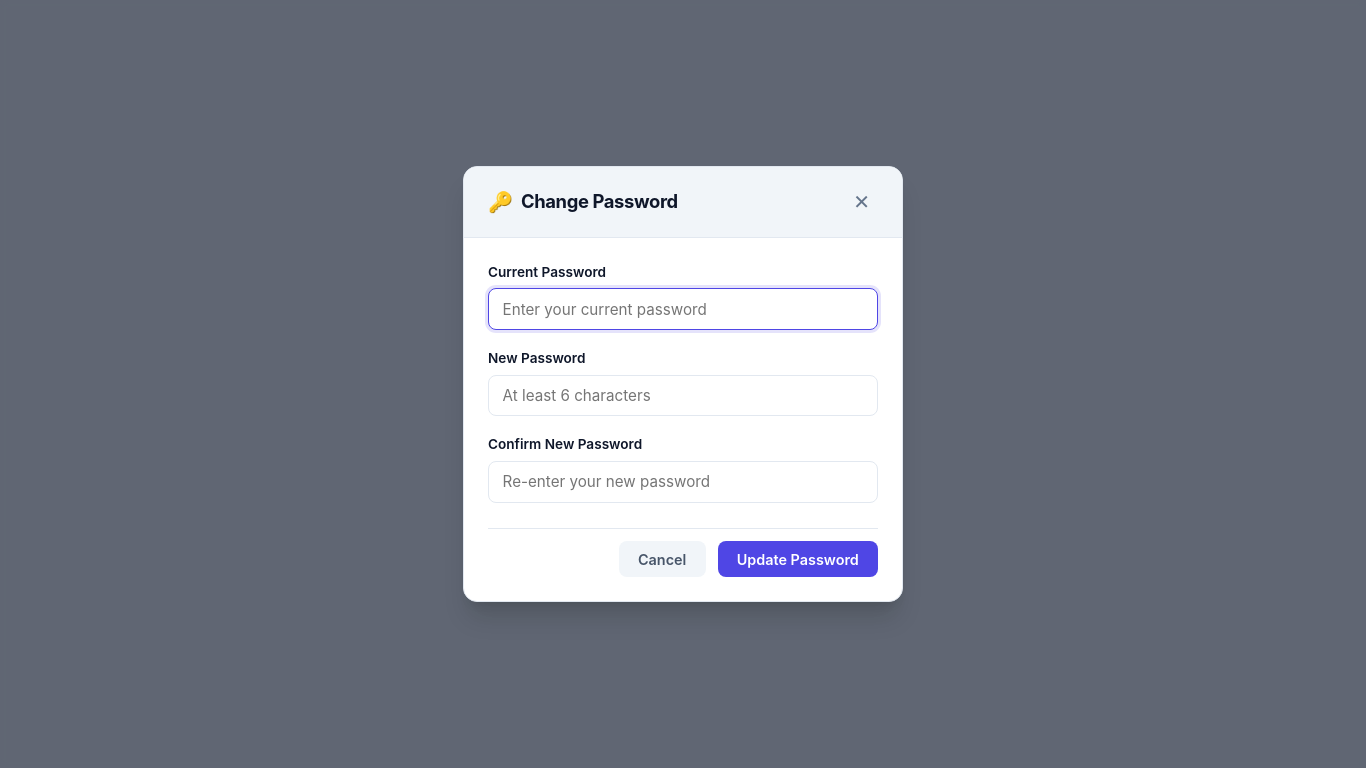
Test case: ChangePasswordModal Component › shows error when new password is the same as current password
Step 1. Type "samepassword123" into the password field labelled "Current Password" → (683, 309), box x1=488 y1=288 x2=878 y2=330
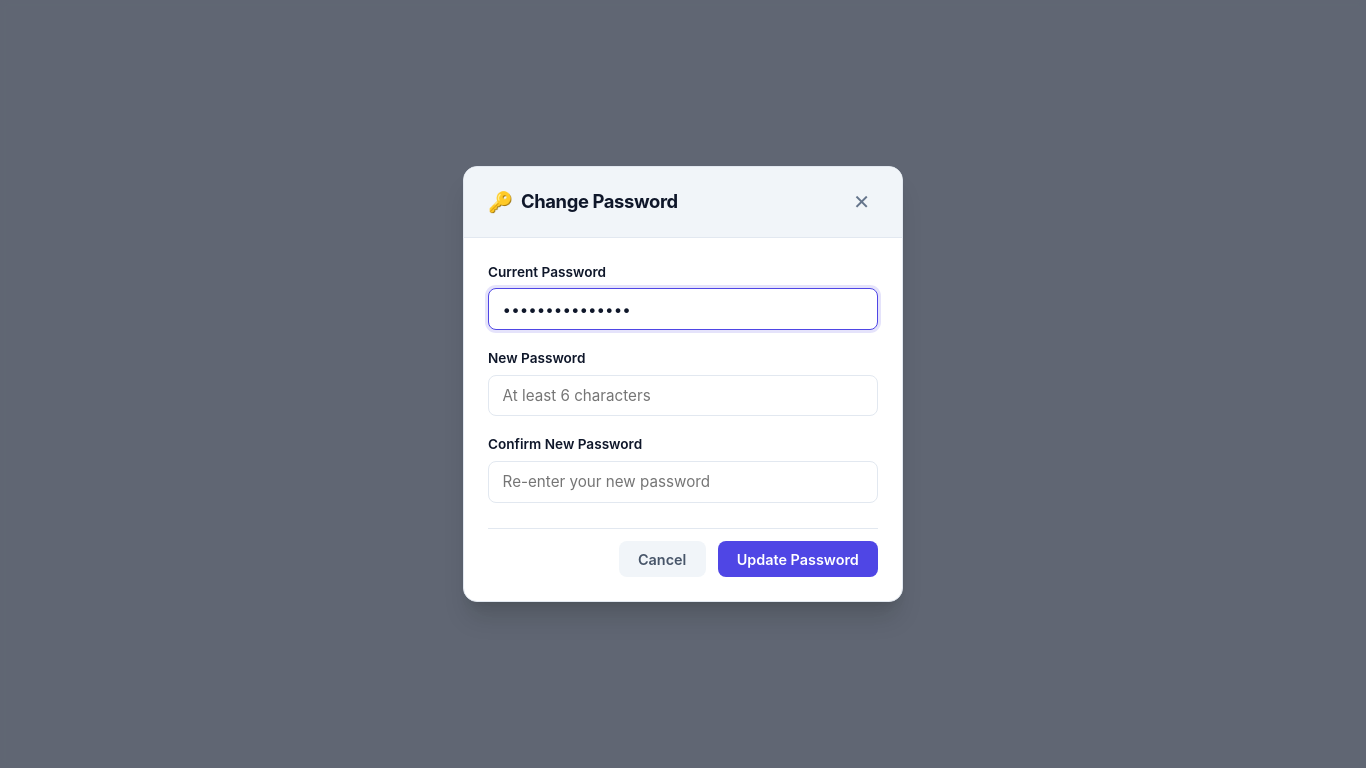
Step 2. Type "samepassword123" into the password field labelled "New Password" → (683, 396), box x1=488 y1=375 x2=878 y2=416
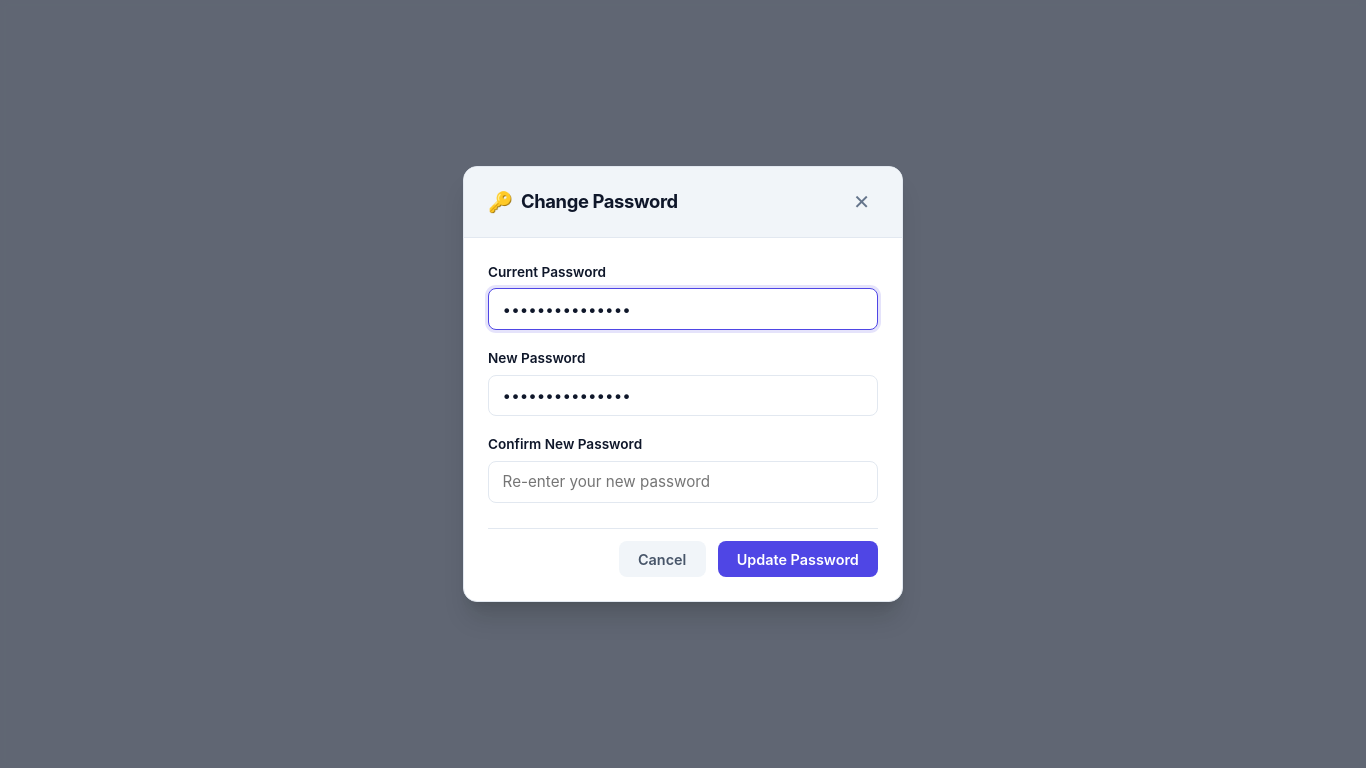
Step 3. Type "samepassword123" into the password field labelled "Confirm New Password" → (683, 482), box x1=488 y1=461 x2=878 y2=503
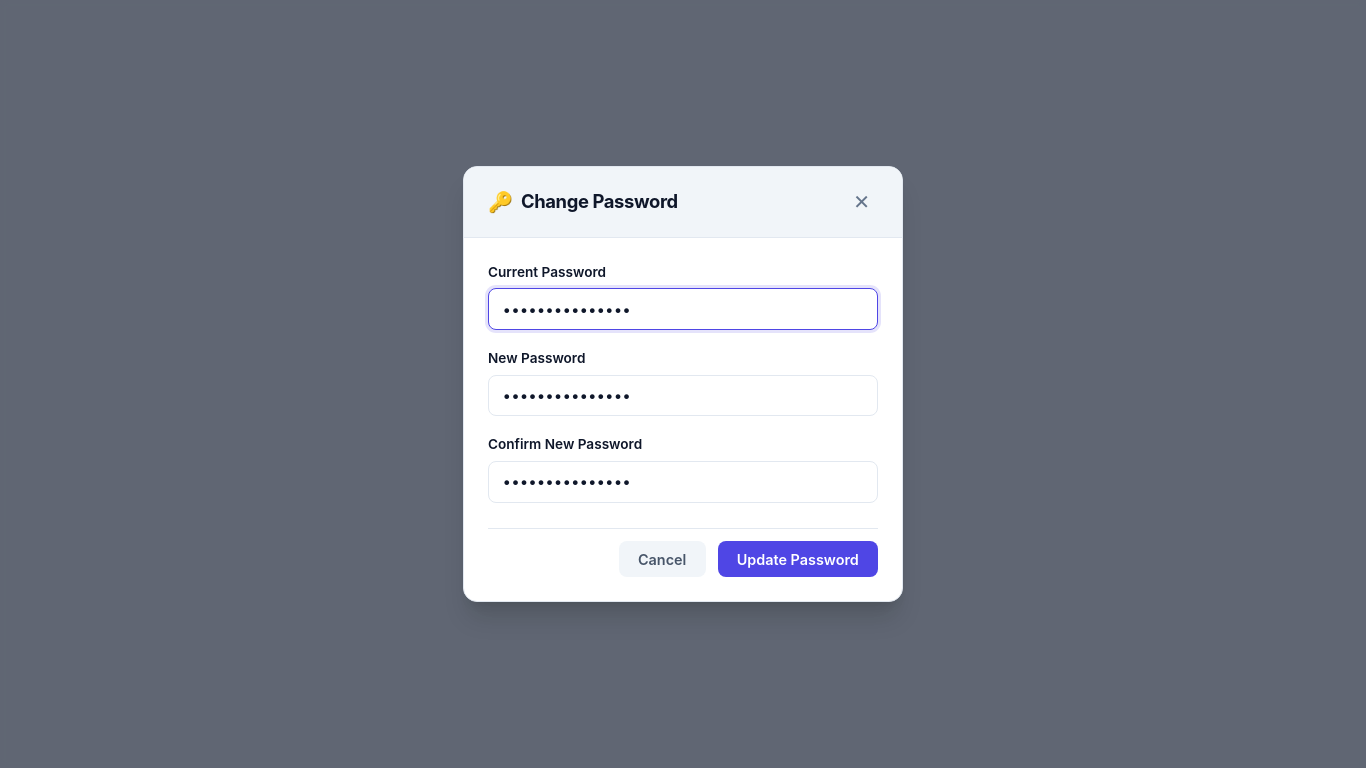
Step 4. Click the button "Update Password" → (798, 559), box x1=718 y1=541 x2=878 y2=577
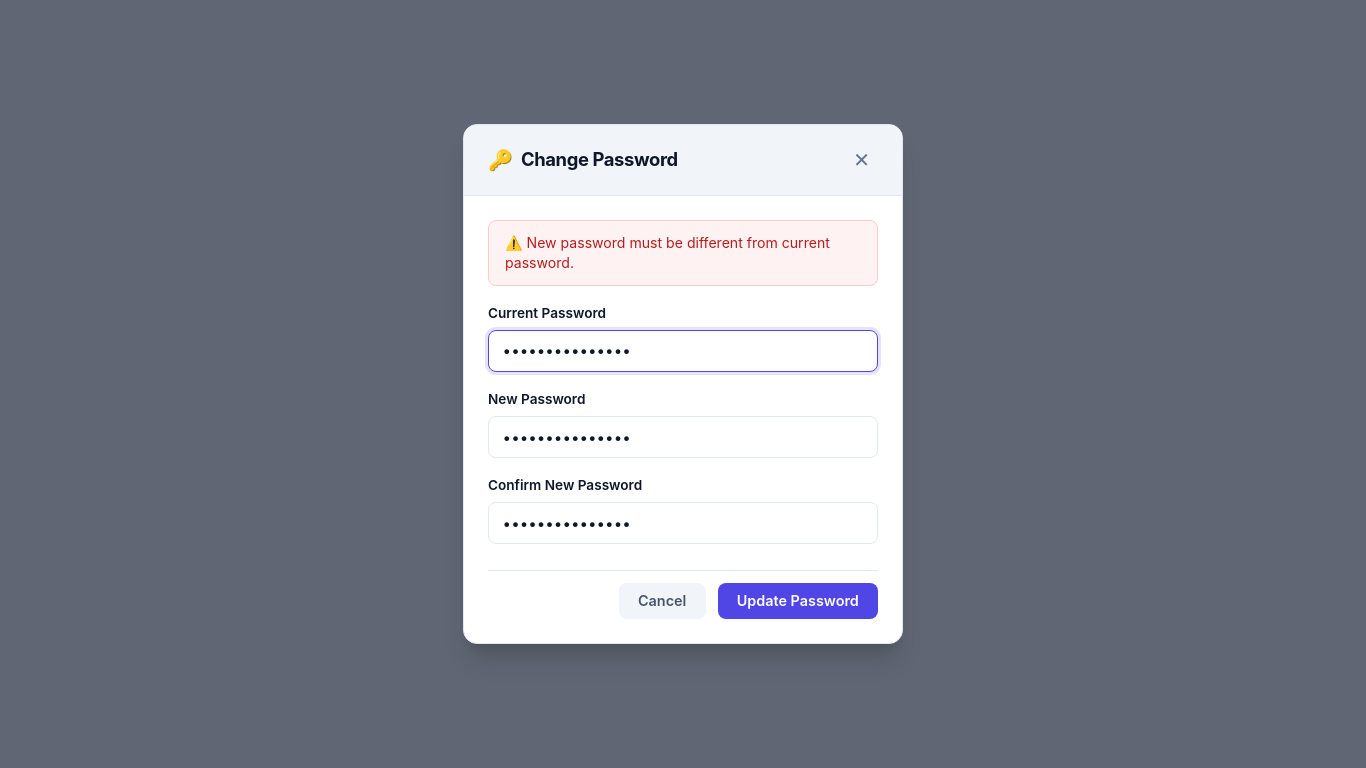
Check: the text "⚠️ New password must be different from current password." is shown, box x1=488 y1=220 x2=878 y2=286
